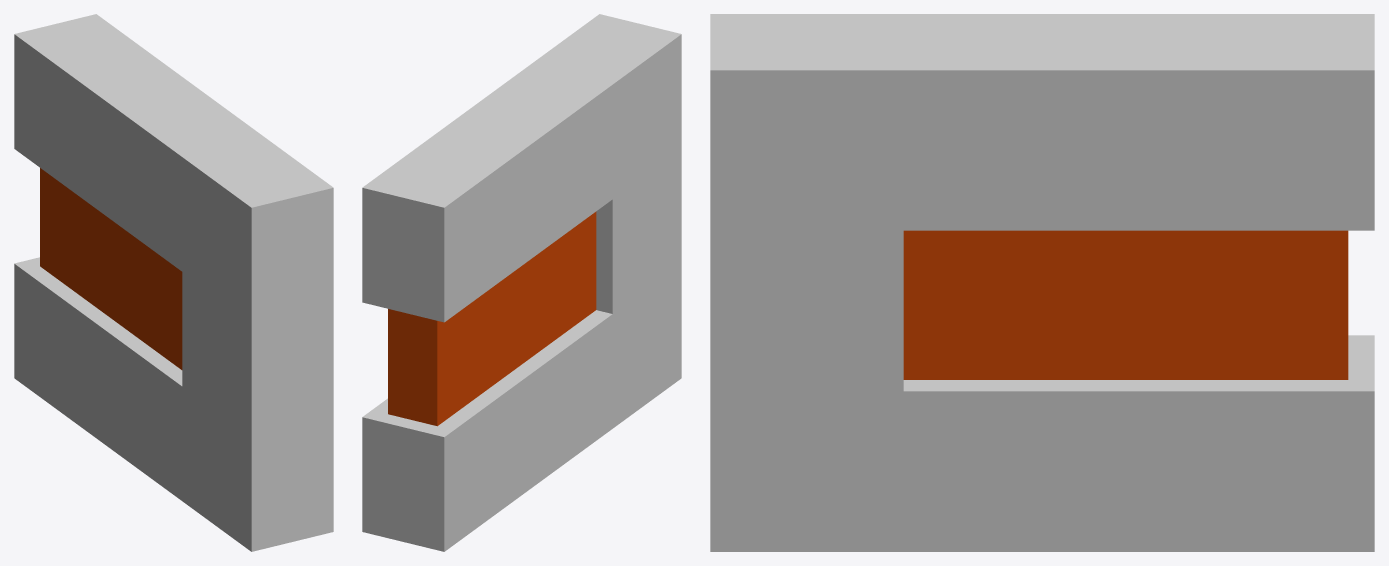
File: Keycard1.fbx
The picture shows the model from 3 angles, left to right: view 1: azimuth 30°, elevation 25°; view 2: azimuth 150°, elevation 25°; view 3: azimuth 270°, elevation 25°; orthographic projection. The views are drawn at different scales.
Parts seen in each view (by area): view 1: Cube; view 2: Cube; view 3: Cube.
Part boxes in pixels (bbox=[...]): Cube: bbox=[14, 14, 333, 551]; Cube: bbox=[362, 14, 681, 551]; Cube: bbox=[710, 14, 1374, 551].
Bounding box in the file's own units: 50 × 10 × 40.
